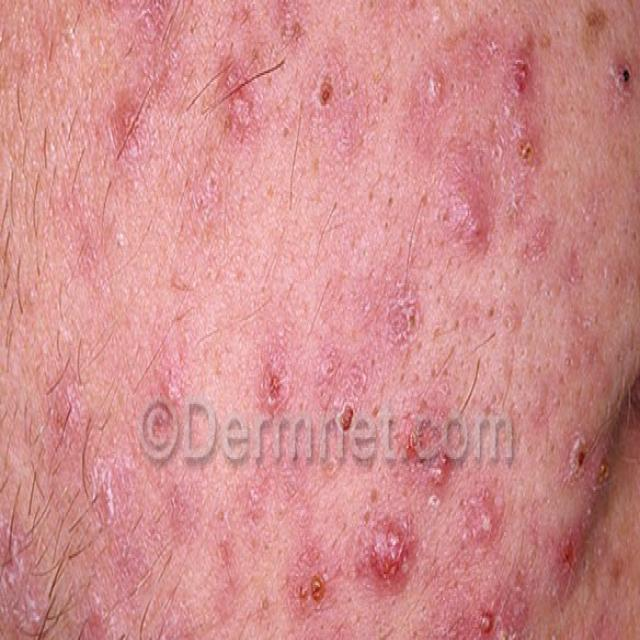Acne: (0, 334, 587, 640), (85, 5, 640, 280)
